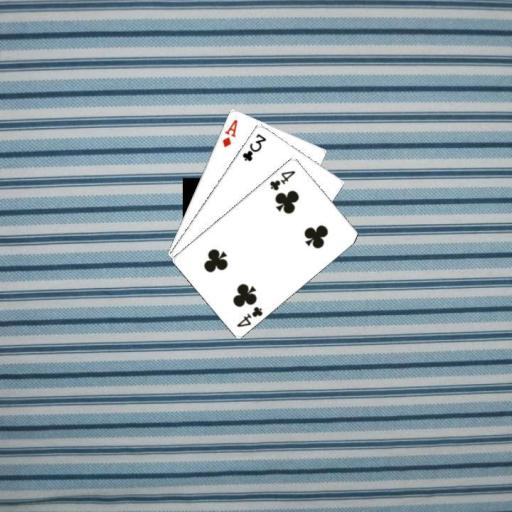3C: (239, 130, 267, 163)
4C: (233, 303, 265, 328), (266, 167, 296, 192)
AD: (219, 116, 239, 149)
